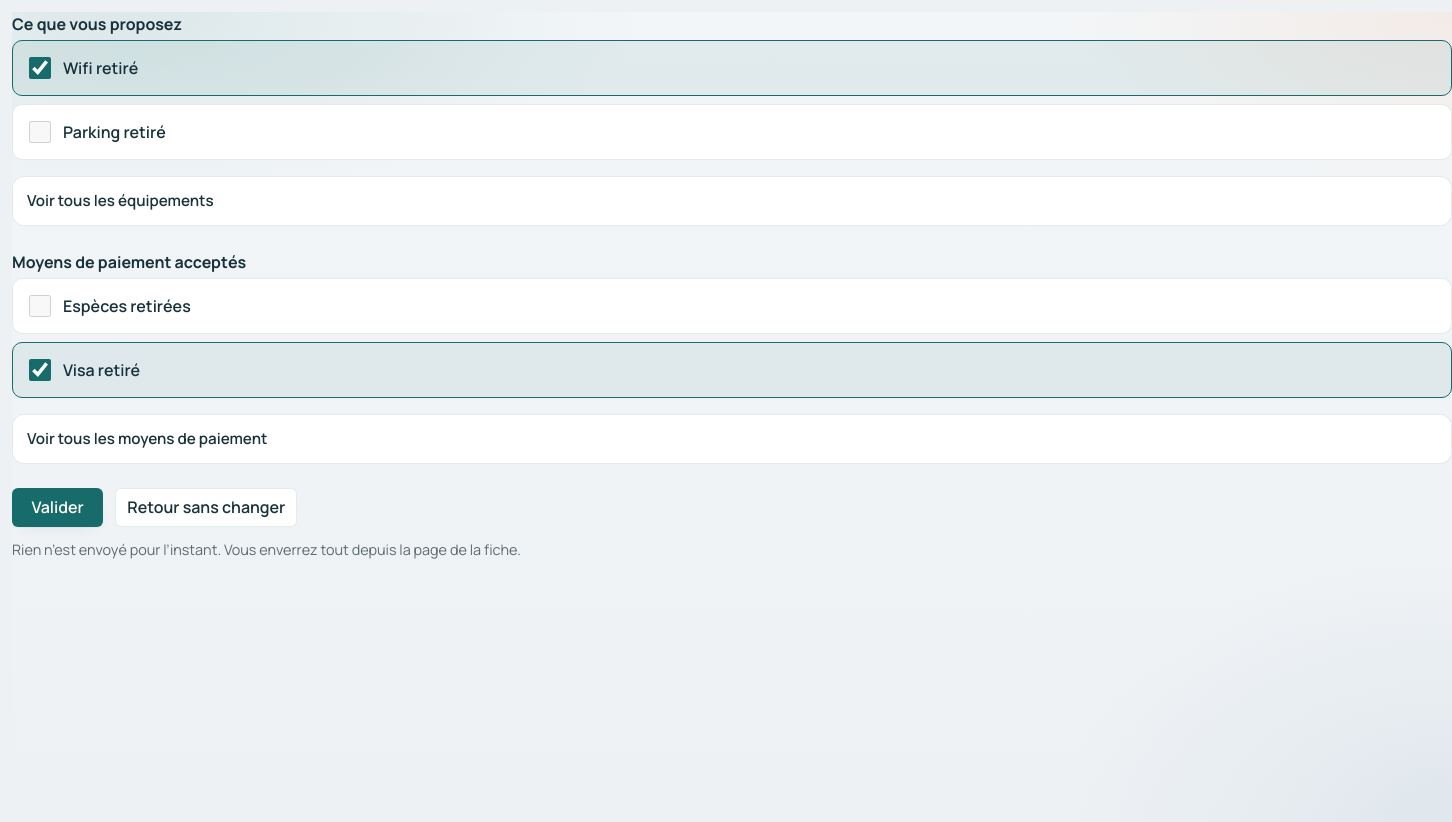
Test: conserve les équipements et paiements retirés déjà choisis, permet leur retrait et bloque les nouveaux choix
The width and height of the screenshot is (1452, 822).
Later steps or results of the test are not shown.
Click the button "Valider". click: (58, 507)
box: [12,488,103,527]
Expected: the checkbox labelled "Parking retiré" is not checked, [29,121,51,143]
Expected: the checkbox labelled "Parking retiré" is disabled, [29,121,51,143]
Click the checkbox labelled "Wifi retiré". click: (40, 68)
box: [29,57,51,79]
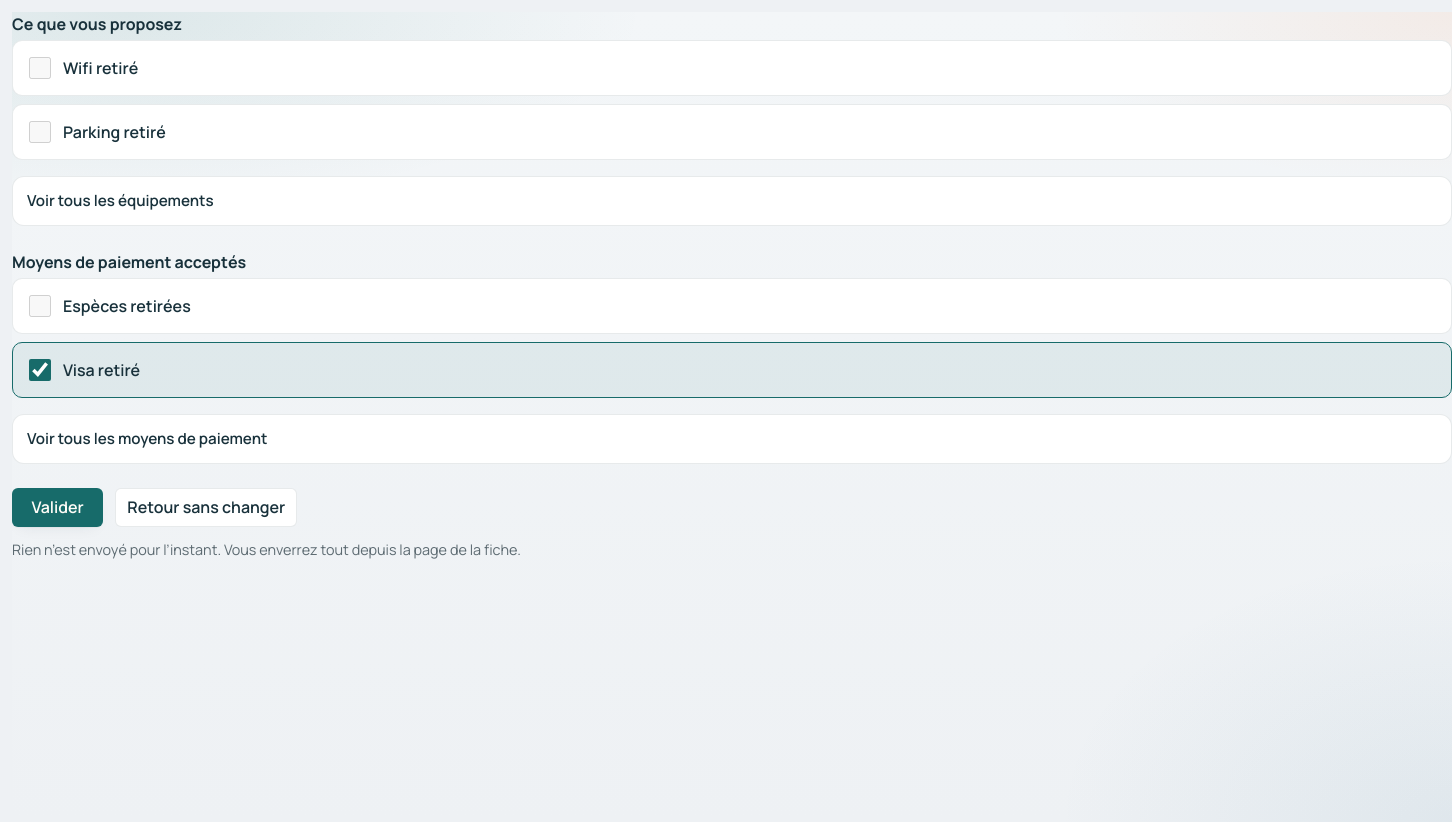
Now the checkbox labelled "Wifi retiré" is not checked
Now the checkbox labelled "Wifi retiré" is disabled
Click the checkbox labelled "Wifi retiré". click: (40, 68)
box: [29,57,51,79]
Now the checkbox labelled "Wifi retiré" is not checked, box [29,57,51,79]
